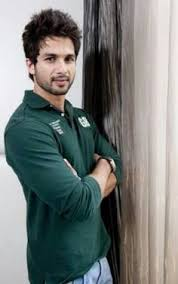Indian_Male: (31, 27, 83, 94)
